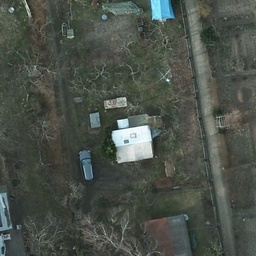car: (75, 150, 98, 182)
